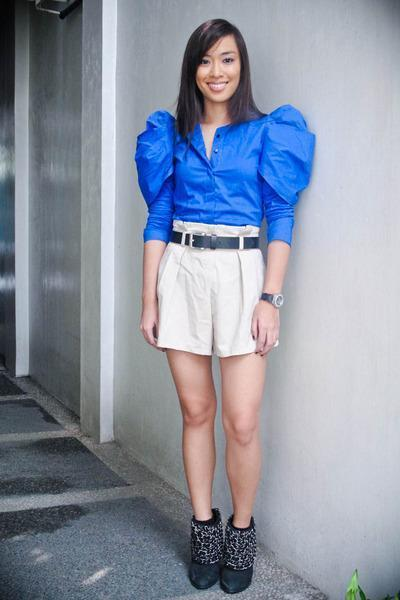shirt: (135, 108, 315, 244)
shoe: (178, 516, 256, 592)
shorts: (143, 206, 262, 356)
